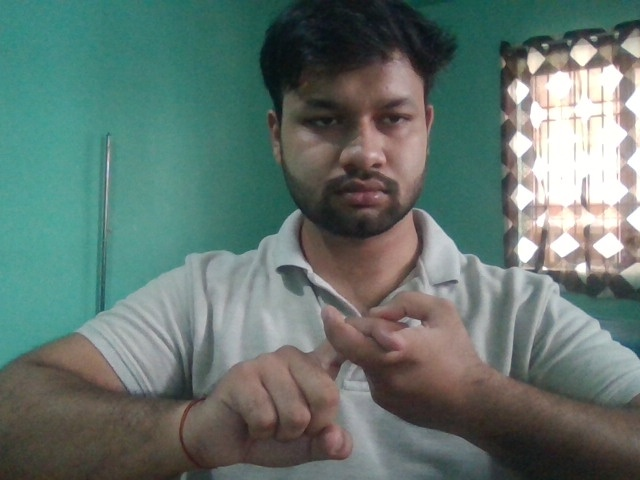Friend: (197, 284, 490, 475)
